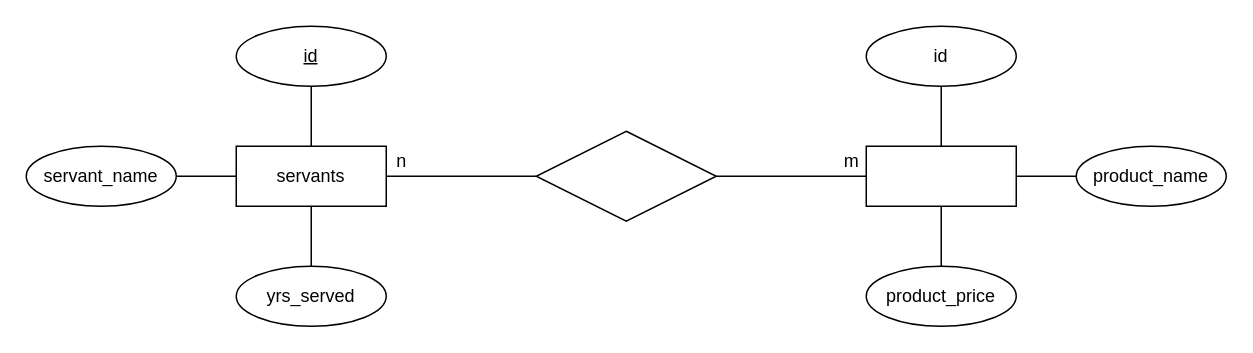
The diagram is 1253 pixels wide and 353 high, and some of its shapes have lost their labels. Each missing label, with the centre of its shape:
buys: point (625, 175)
product: point (940, 175)
